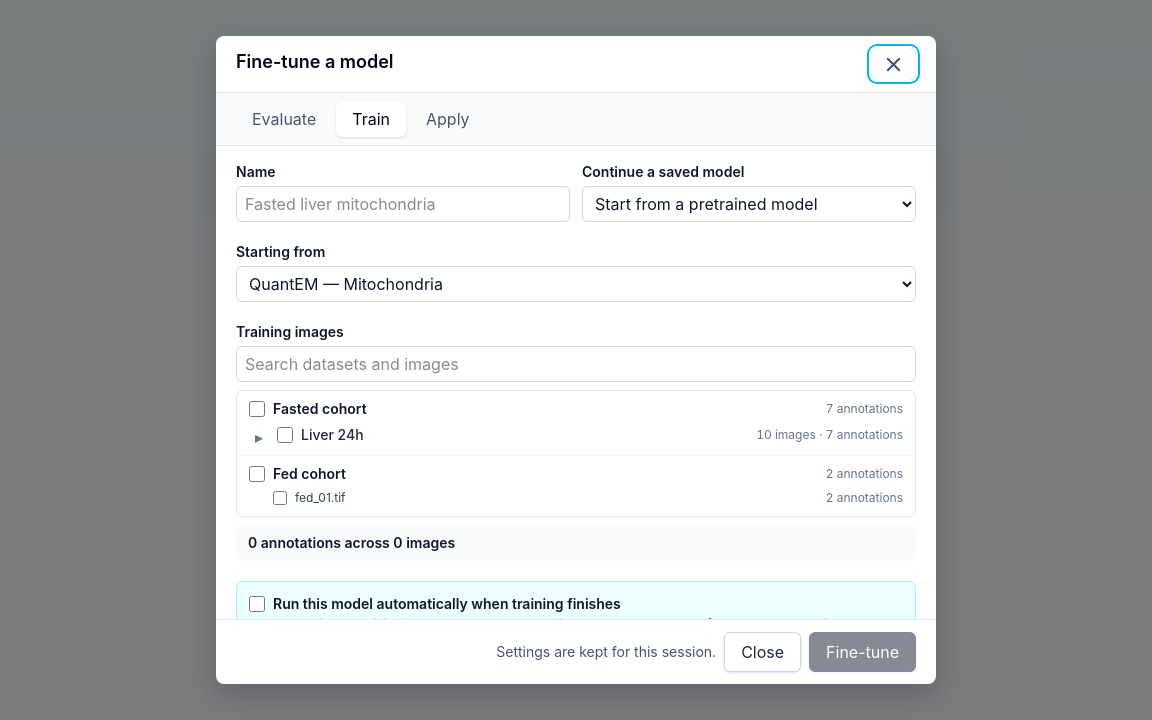
FineTuneDialog › shows the specific server conflict: model_name_reserved
Click the checkbox labelled "Liver 24h".
click(285, 435)  # box [277,427,293,443]
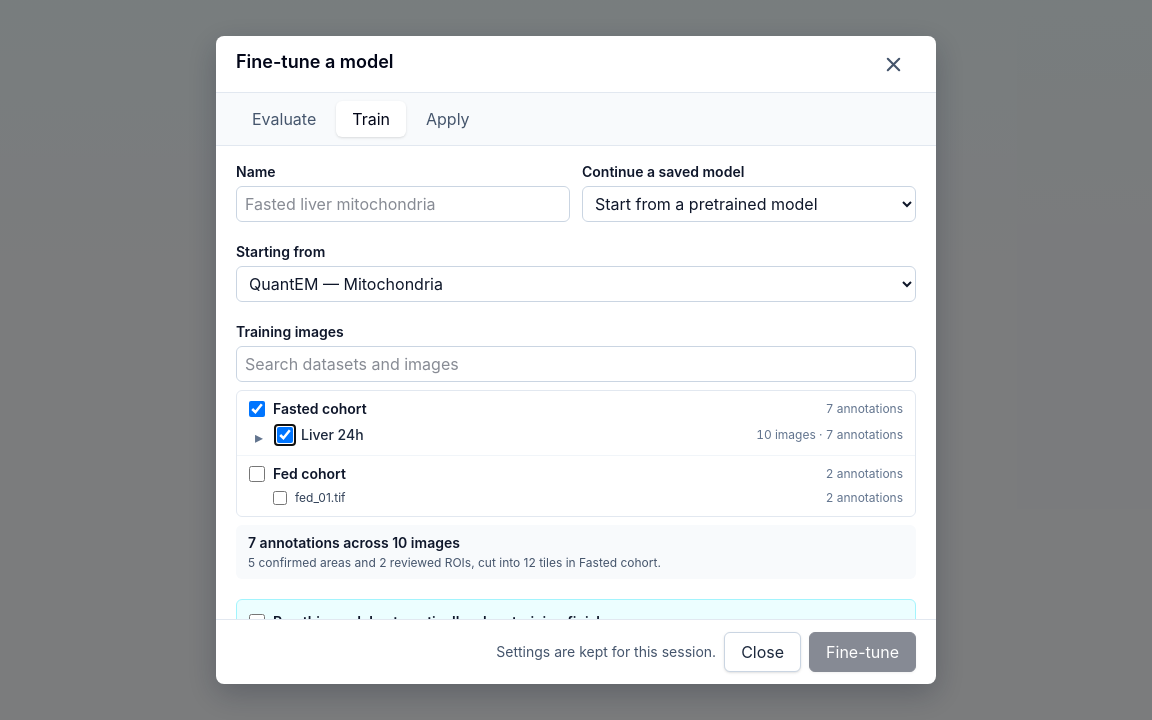
Result: the message with test id "finetune-count" shows "cut into 12 tiles" at [236,525,916,579]
Type "Previously deleted name" into the field labelled "Name".
click(403, 204); type("Previously deleted name")  # box [236,186,570,222]
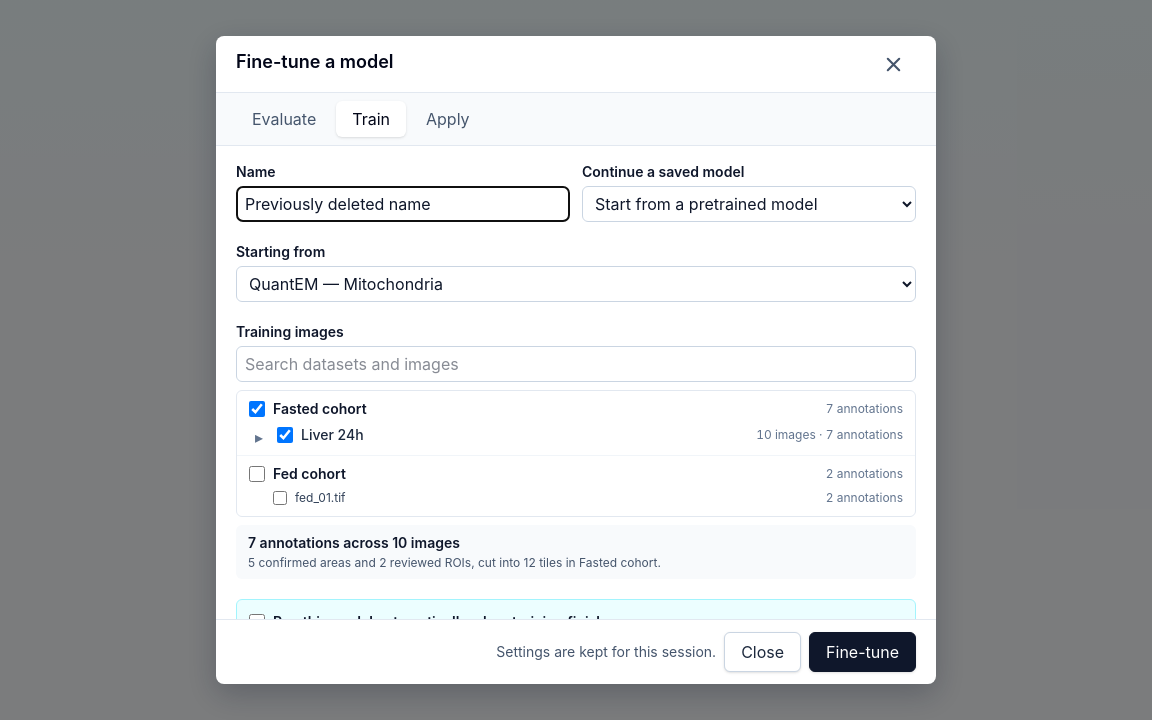
Click the button "Fine-tune".
click(863, 652)  # box [809,632,916,672]
(page scrolled)
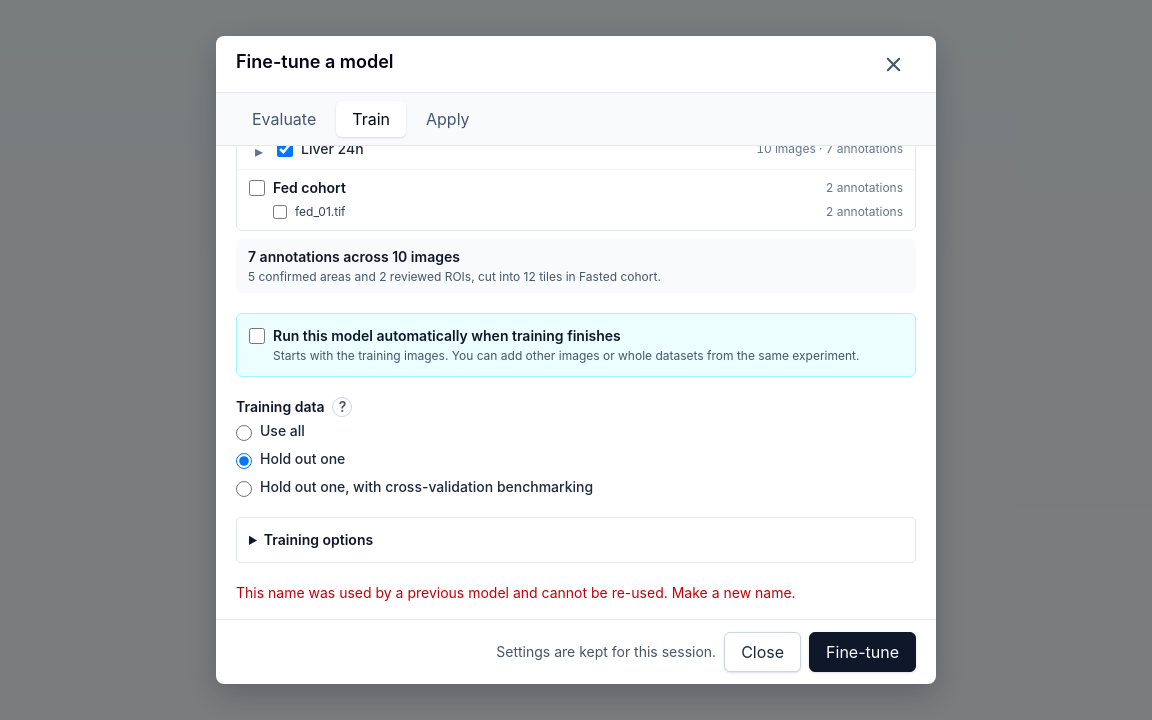
Result: the message "This name was used by a previous model and cannot be re-used. Make a new name." is shown at [236,584,796,601]
